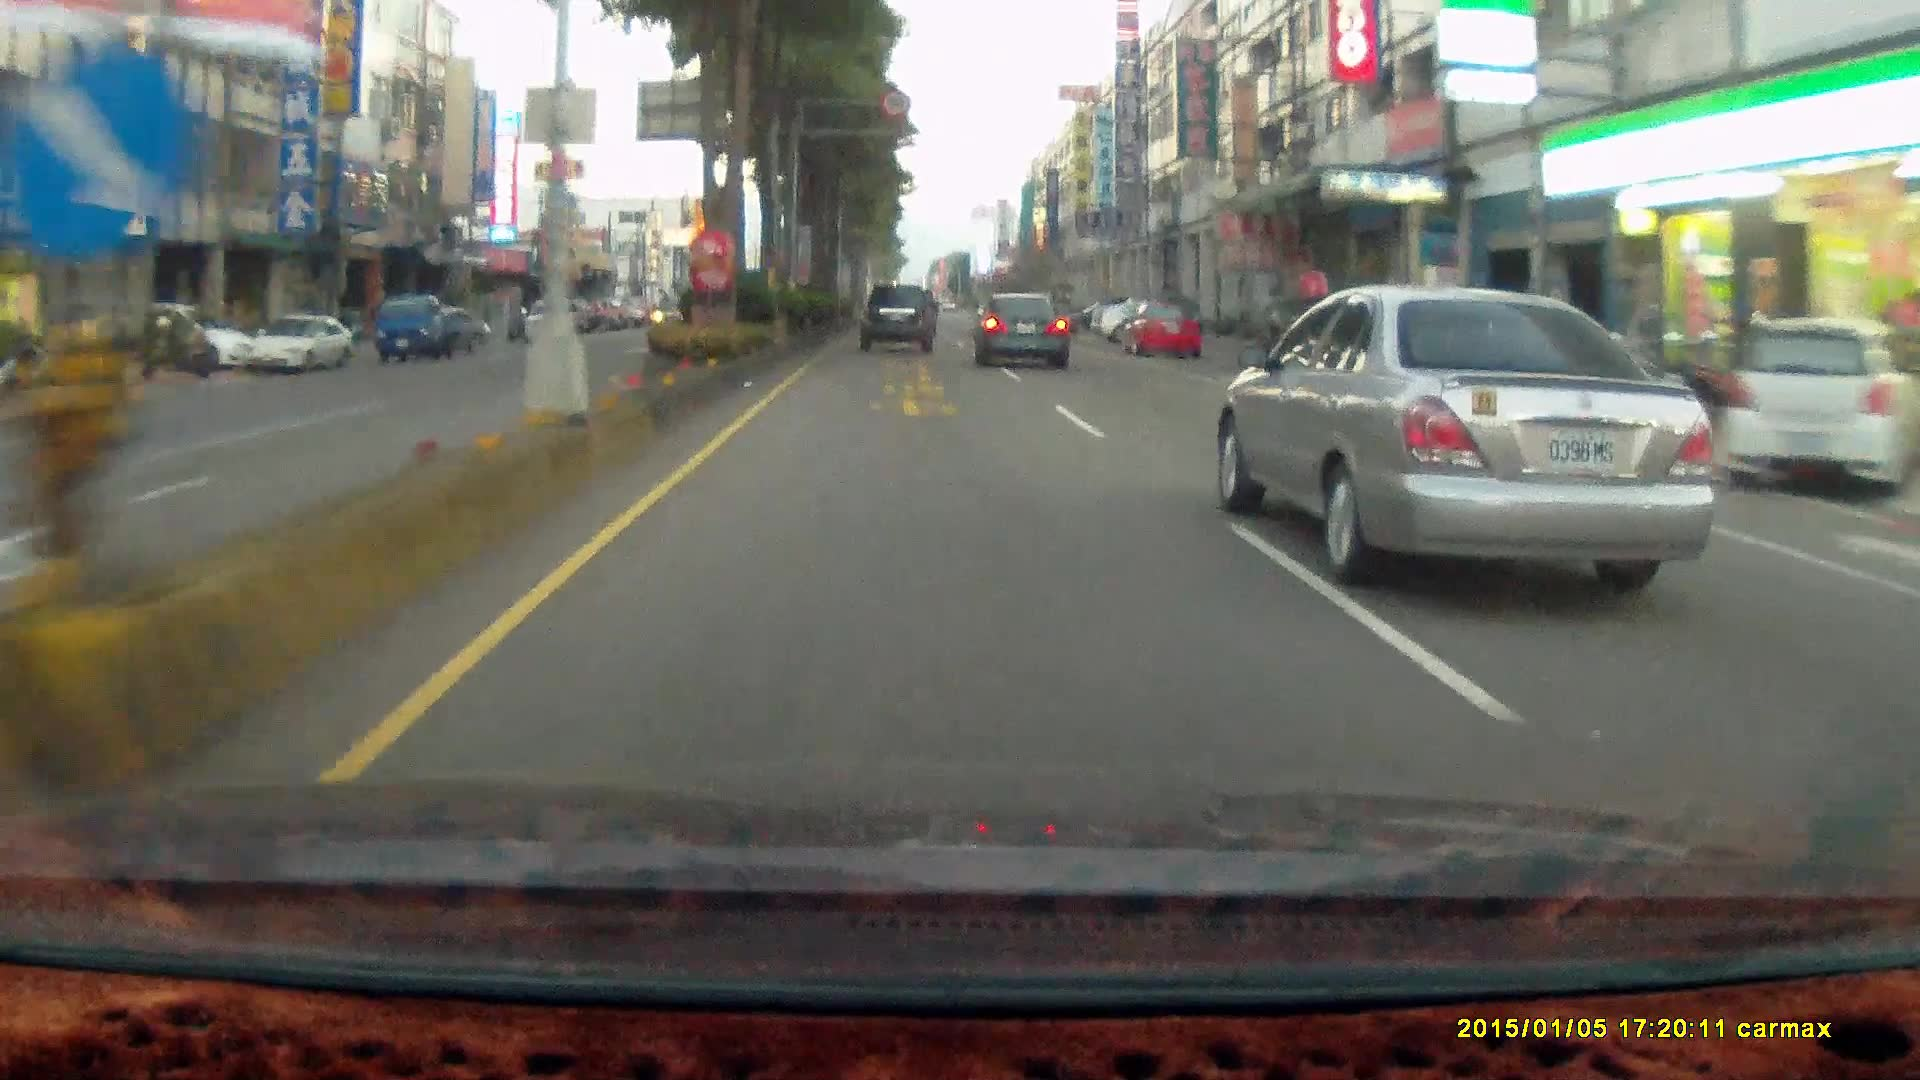pedestrian: (99, 306, 132, 400), (100, 309, 132, 401)
vehicle: (1227, 286, 1727, 579), (1721, 313, 1920, 497), (1725, 320, 1900, 493), (1455, 316, 1656, 451), (1288, 305, 1462, 390), (112, 300, 248, 370), (976, 300, 1073, 380), (972, 291, 1068, 369), (246, 316, 357, 382), (377, 300, 479, 366), (241, 313, 354, 372), (373, 296, 461, 365), (859, 284, 940, 356), (1120, 301, 1208, 364), (859, 283, 936, 353), (1117, 297, 1204, 359), (1090, 292, 1189, 340), (403, 306, 487, 351), (524, 296, 581, 344)
